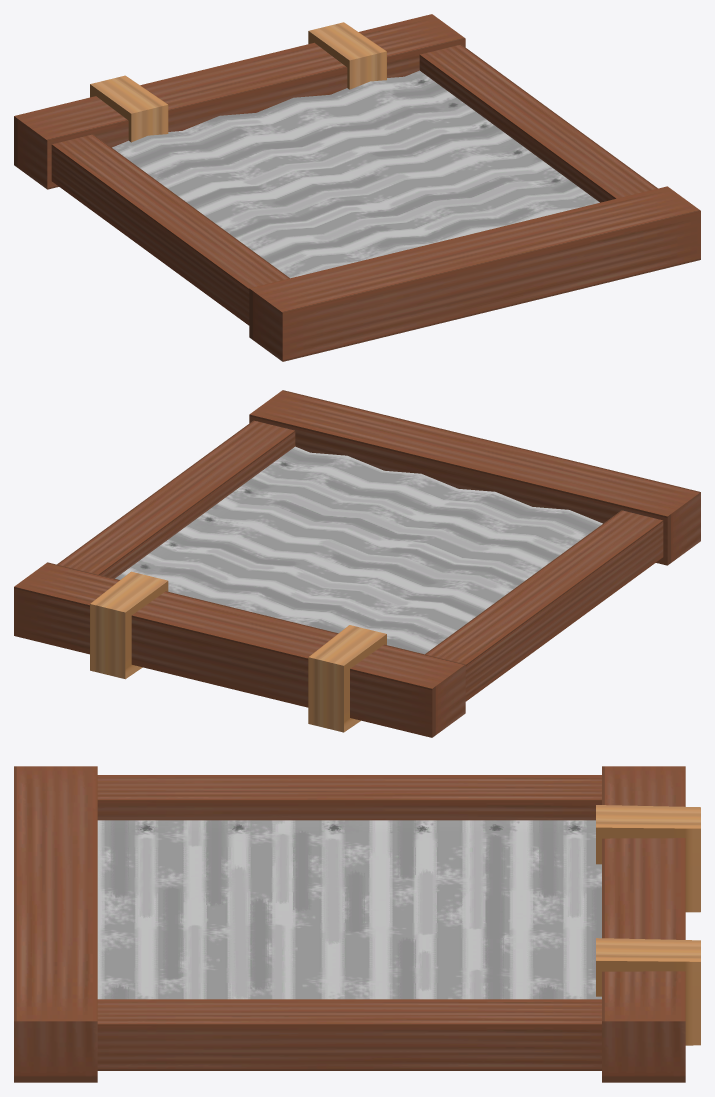
File: Lid (1).fbx
3 views of the same model, one above another, from view 1: azimuth 30°, elevation 25°; view 2: azimuth 150°, elevation 25°; view 3: azimuth 270°, elevation 25° (orthographic). The views are drawn at different scales.
Visible parts, largest first — view 1: Lid (1) (×2); view 2: Lid (1) (×2); view 3: Lid (1) (×2).
Boxes of the visible parts, x1=… form: Lid (1) (×2): x1=14, y1=14, x2=700, y2=361; Lid (1) (×2): x1=14, y1=390, x2=700, y2=737; Lid (1) (×2): x1=14, y1=766, x2=700, y2=1082.
Size of the model in its own units: 0.5548 by 0.088 by 0.6317.
